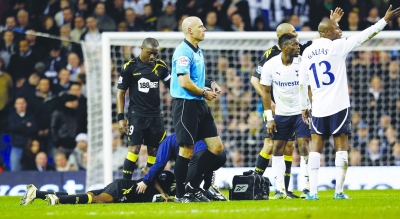10+: (1, 2, 393, 201)
down: (18, 160, 203, 206)
